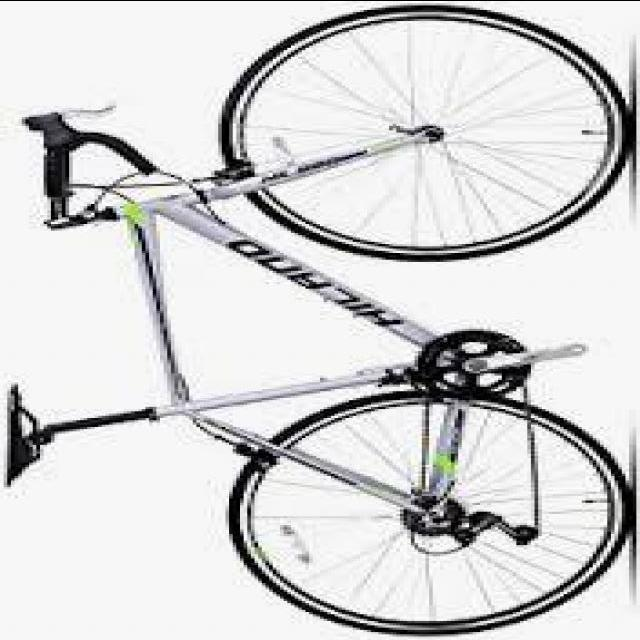bicycle: (16, 25, 602, 634)
